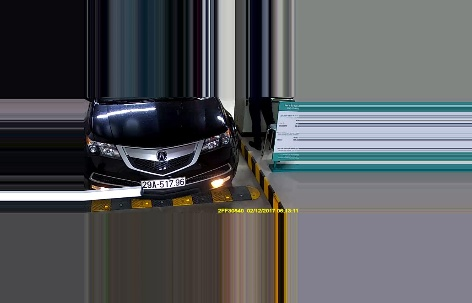plate: (140, 178, 188, 190)
